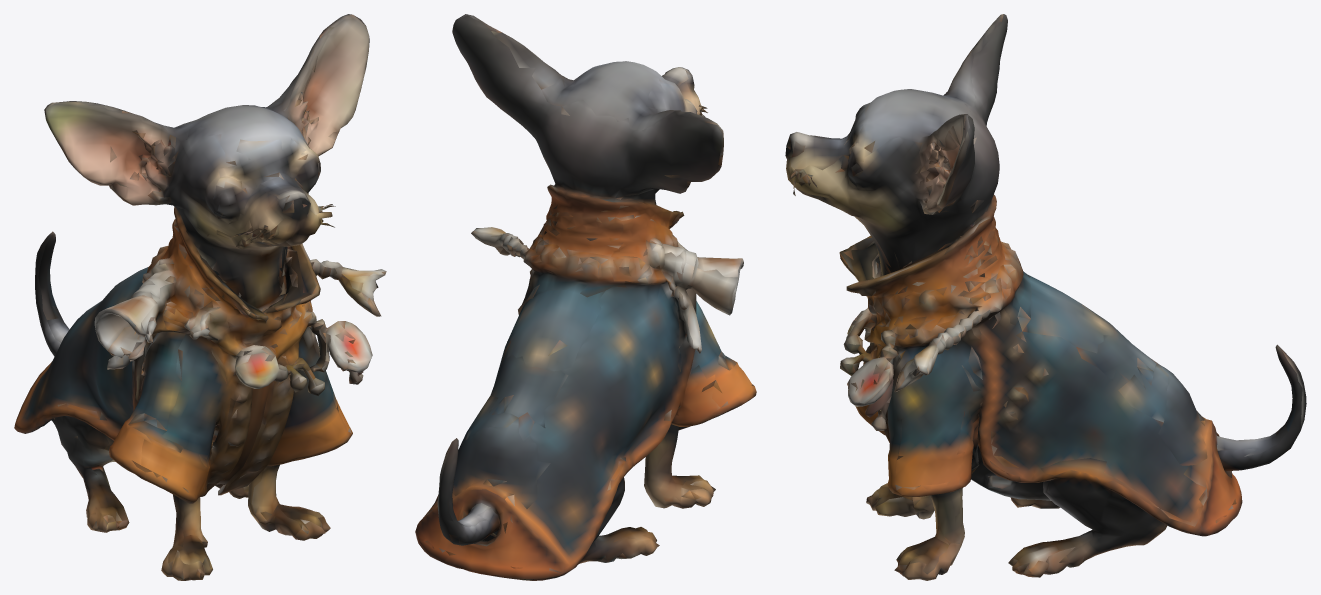
The model's file is Mia_final.glb.
3 renders of one model, left to right at view 1: azimuth 30°, elevation 25°; view 2: azimuth 150°, elevation 25°; view 3: azimuth 270°, elevation 25°, orthographic. The views are drawn at different scales.
Parts seen in each view (by area): view 1: Mesh1.0; view 2: Mesh1.0; view 3: Mesh1.0.
Boxes of the visible parts, x1,y1,x2,y2 form: Mesh1.0: [14, 14, 386, 580]; Mesh1.0: [415, 14, 756, 580]; Mesh1.0: [785, 14, 1306, 580].
Size of the model in its own units: 1.18 by 1.8 by 1.74.
Materials: 1 (1 with a texture image).
